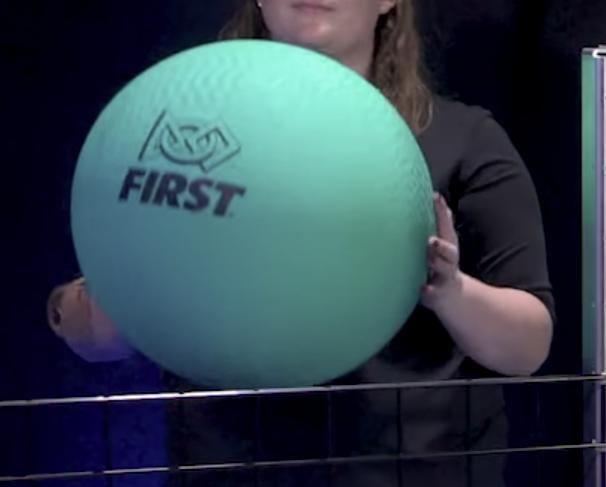algae: (70, 40, 435, 385)
